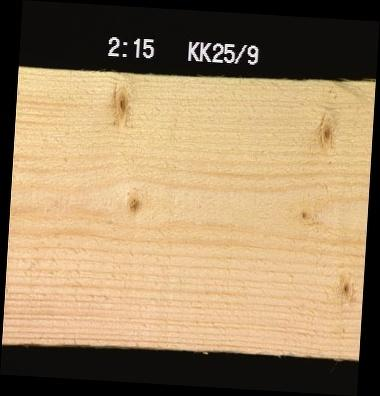small_knot: (315, 109, 338, 152), (335, 270, 357, 304), (295, 205, 311, 223)
sound_knot: (107, 82, 134, 126), (123, 190, 143, 215)
